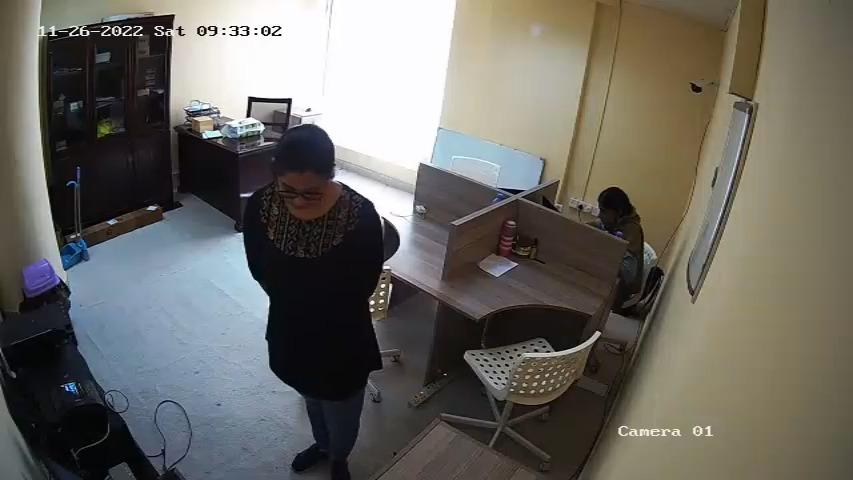no_apron: (271, 208, 366, 368)
